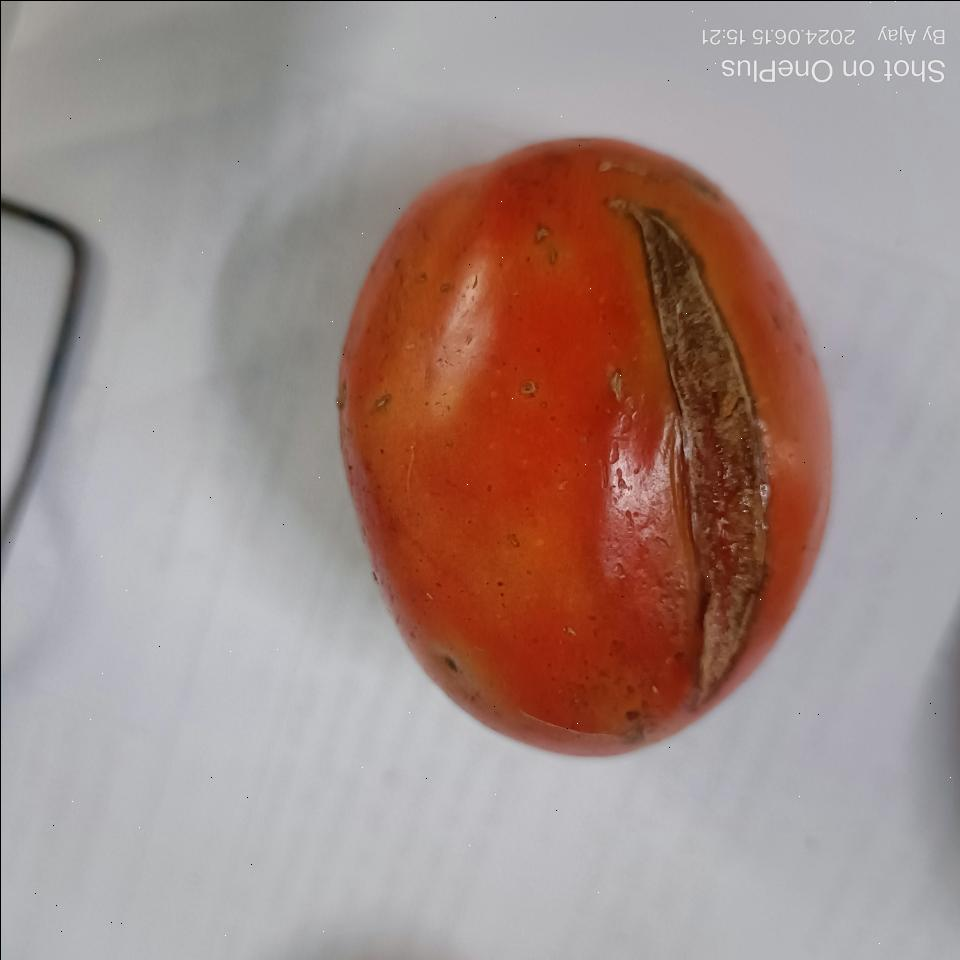Cracking: (617, 199, 779, 712)
